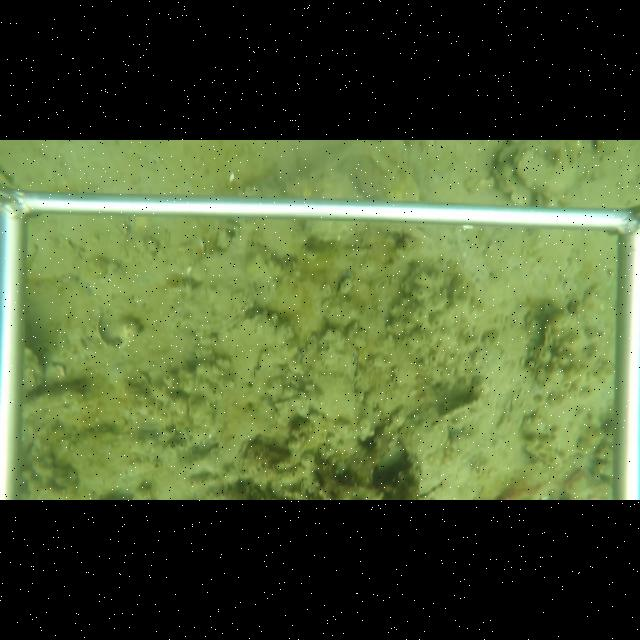Oyster-Closed: (173, 223, 261, 337), (530, 284, 609, 398), (398, 404, 454, 498), (514, 141, 581, 194), (296, 330, 320, 373), (442, 398, 485, 421)
